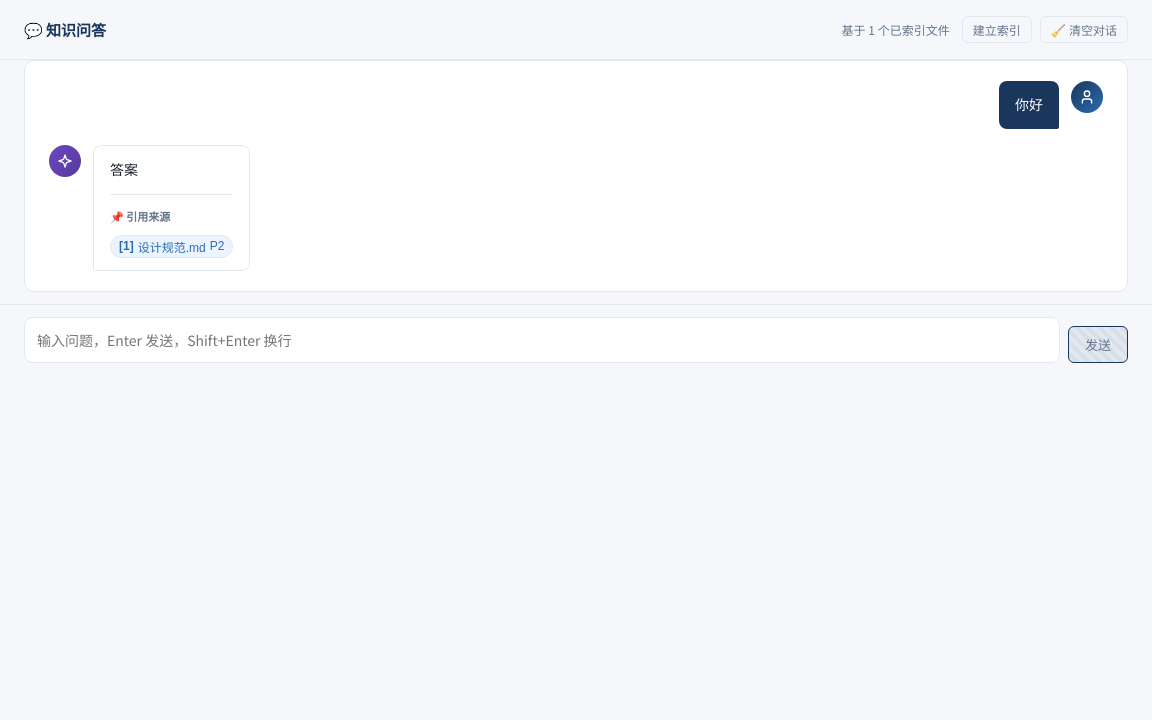
Scenario: ChatPage › opens preview overlay dialog when citation chip clicked
What coordinates should you click on to do the following:
click the button "[1] 设计规范.md P2"
I would click on:
 (172, 246)
Its box is [110,235,233,258].
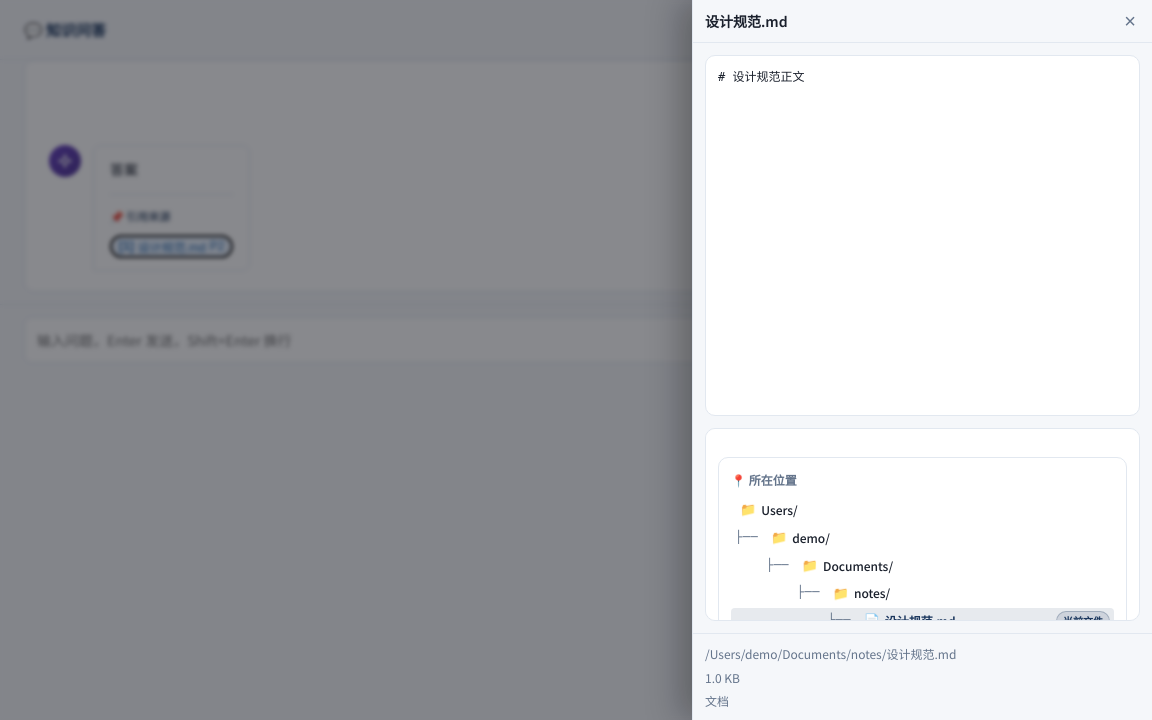
Check: the dialog is shown
Check: the element named "文件预览" is shown, box [692,0,1151,719]
Check: the text "# 设计规范正文" is shown, box [718,70,804,84]
